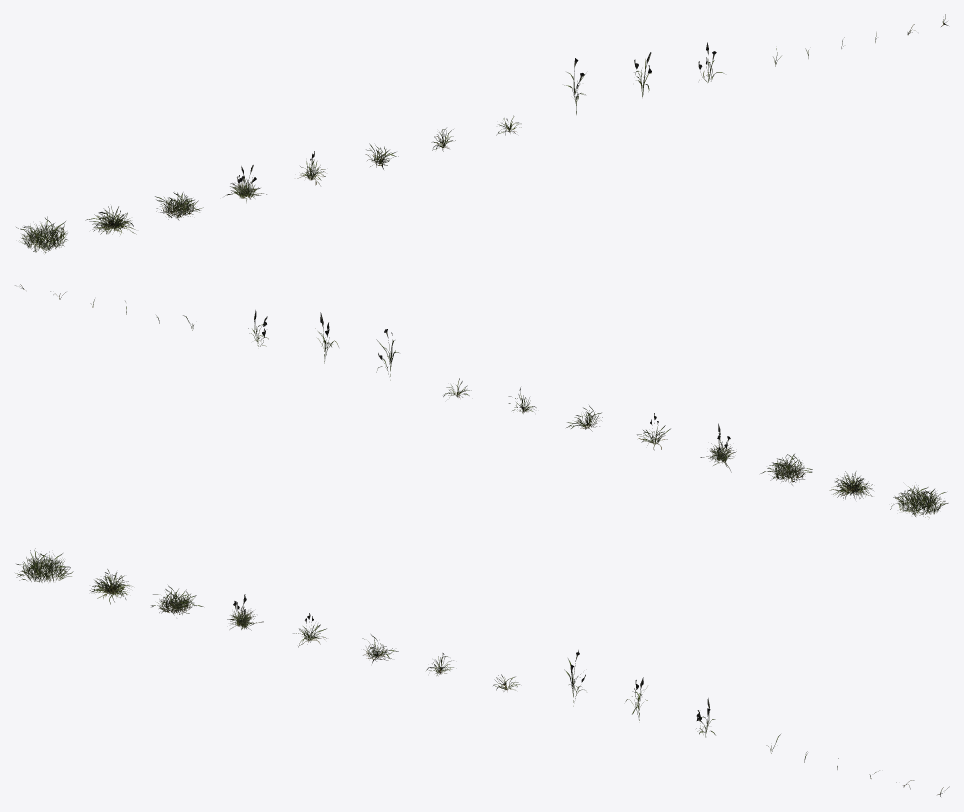
The model's file is grass_medium_01.glb.
3 renders of one model, top to bottom at view 1: azimuth 30°, elevation 25°; view 2: azimuth 150°, elevation 25°; view 3: azimuth 330°, elevation 25°, orthographic.
Visible parts, largest first — view 1: grass_medium_01_large_a_LOD0, grass_medium_01_large_c_LOD0, grass_medium_01_large_b_LOD0; view 2: grass_medium_01_large_a_LOD0, grass_medium_01_large_c_LOD0, grass_medium_01_large_b_LOD0; view 3: grass_medium_01_large_a_LOD0, grass_medium_01_large_c_LOD0, grass_medium_01_large_b_LOD0.
Part boxes in pixels (left/top/right/bottom): grass_medium_01_large_a_LOD0: left=16, top=216, right=67, bottom=253; grass_medium_01_large_c_LOD0: left=155, top=192, right=203, bottom=220; grass_medium_01_large_b_LOD0: left=85, top=206, right=136, bottom=234; grass_medium_01_large_a_LOD0: left=890, top=485, right=948, bottom=517; grass_medium_01_large_c_LOD0: left=760, top=454, right=812, bottom=485; grass_medium_01_large_b_LOD0: left=829, top=471, right=873, bottom=499; grass_medium_01_large_a_LOD0: left=15, top=548, right=73, bottom=582; grass_medium_01_large_c_LOD0: left=151, top=585, right=203, bottom=615; grass_medium_01_large_b_LOD0: left=89, top=569, right=132, bottom=604.
Bounding box in the file's own units: 5.6 × 0.3418 × 0.3266.
Materials: 1 (1 with a texture image).
